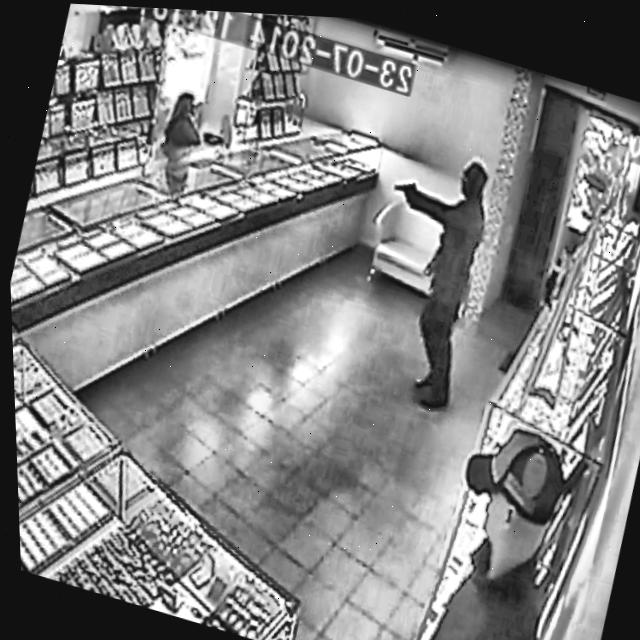robbery: (380, 141, 501, 431)
